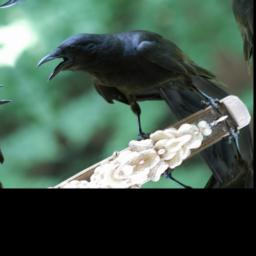Crow: (30, 0, 241, 177)
